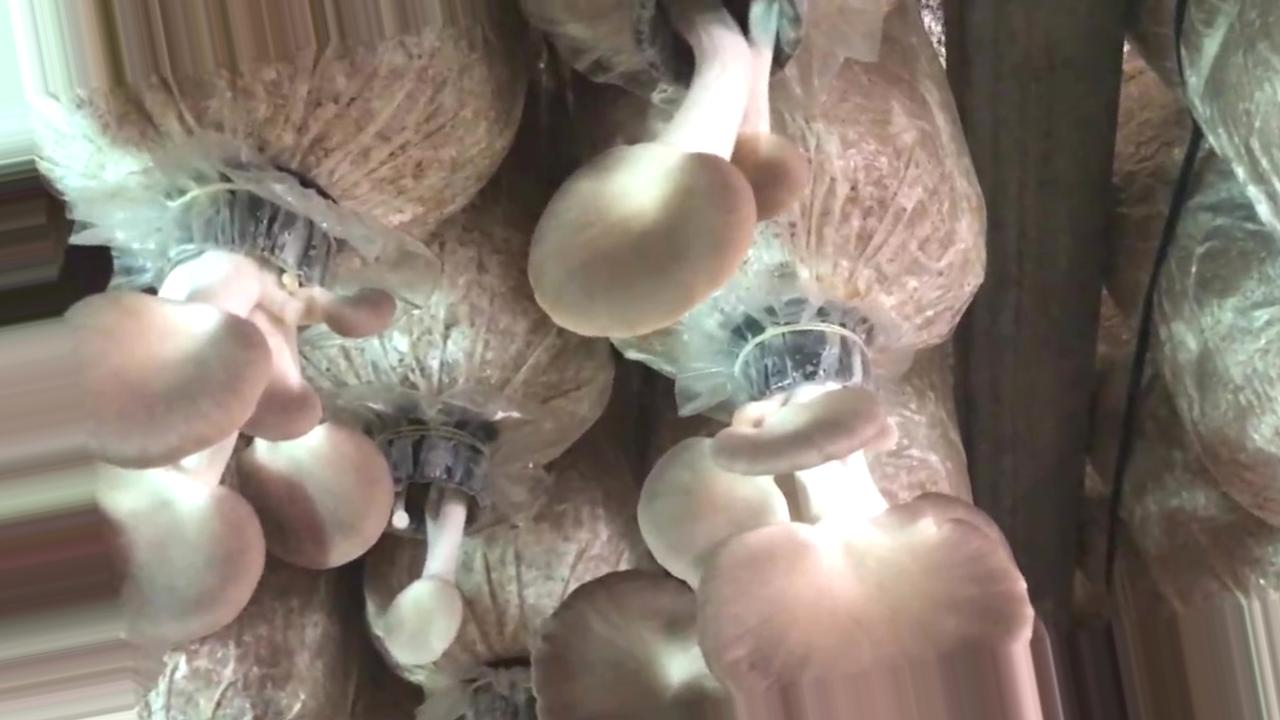nam: (536, 324, 1038, 719), (8, 187, 392, 642), (532, 1, 813, 334), (385, 424, 498, 667)
